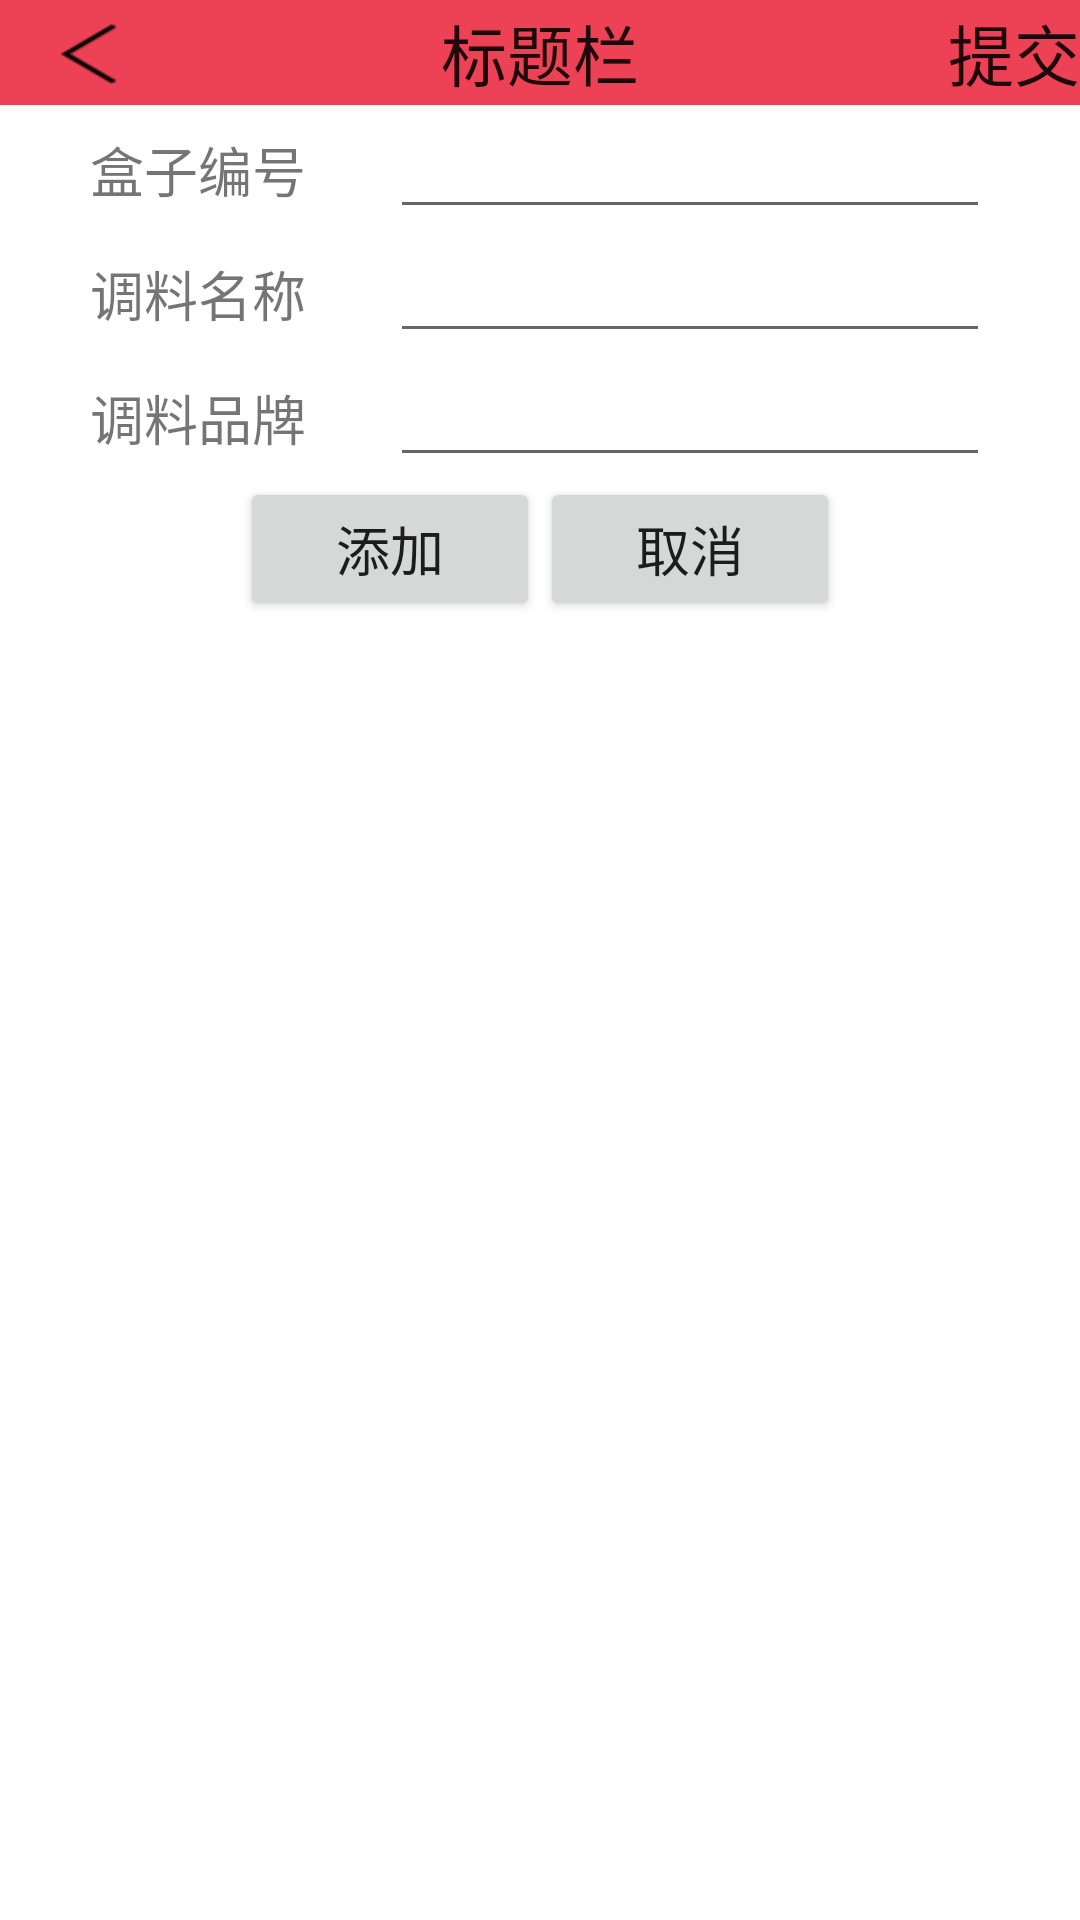

Screen size 1080w x 1920h. Icon name, then its box in pixels as (x1, y1, x2, y2):
back arrow: (61, 24, 116, 84)
